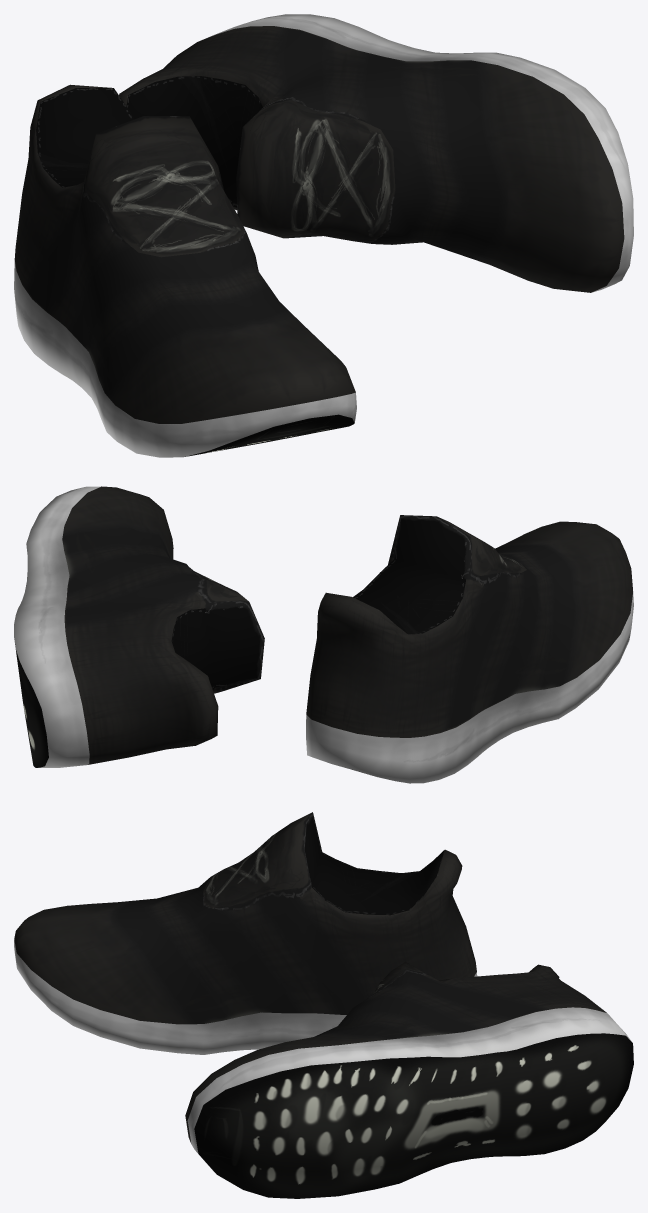
Rendered from shoes.glb.
3 views of the same model, one above another, from view 1: azimuth 30°, elevation 25°; view 2: azimuth 150°, elevation 25°; view 3: azimuth 270°, elevation 25° (orthographic). The views are drawn at different scales.
Visible parts, largest first — view 1: Cube_Cube.001; view 2: Cube_Cube.001; view 3: Cube_Cube.001.
Part boxes in pixels (x1,y1,x2,y2): Cube_Cube.001: [14, 14, 633, 457]; Cube_Cube.001: [14, 486, 633, 783]; Cube_Cube.001: [14, 812, 633, 1198].
Size of the model in its own units: 0.3228 by 0.1443 by 0.3881.
1 material, 1 textured.
